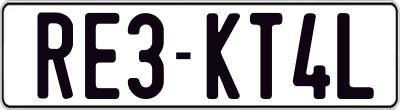3: (126, 10, 168, 98)
4: (292, 11, 332, 99)
E: (82, 11, 118, 98)
K: (205, 12, 240, 103)
L: (336, 10, 376, 100)
R: (36, 9, 71, 101)
T: (247, 11, 281, 103)
